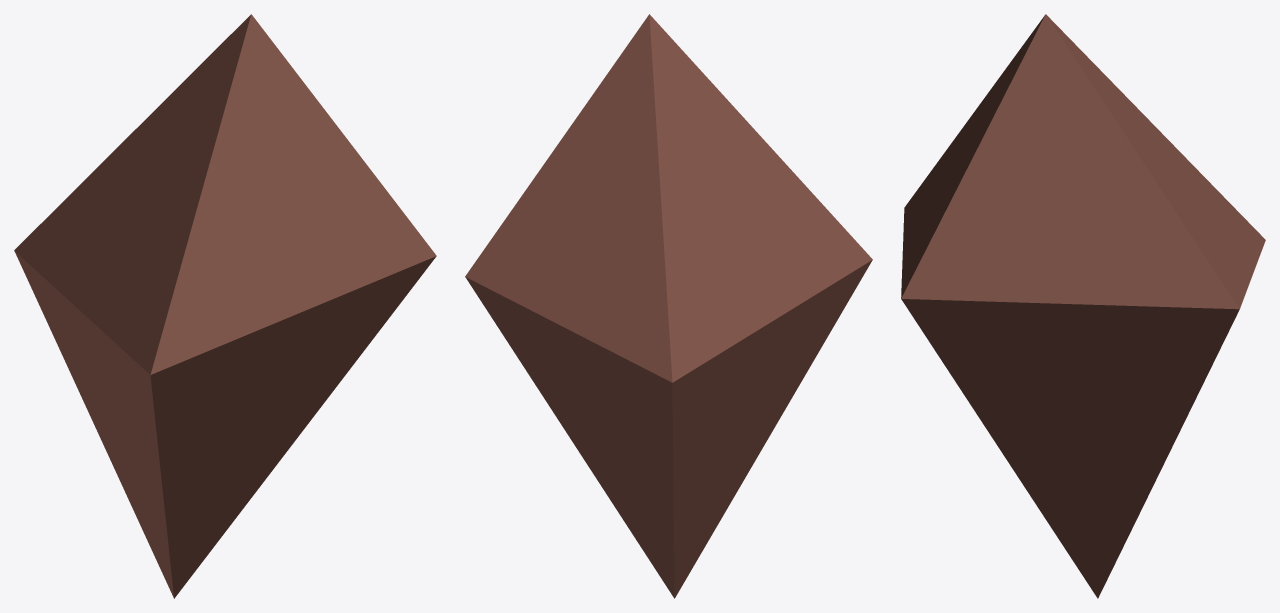
The model's file is Rock5.fbx.
The picture shows the model from 3 angles, left to right: view 1: azimuth 30°, elevation 25°; view 2: azimuth 150°, elevation 25°; view 3: azimuth 270°, elevation 25°; orthographic projection. The views are drawn at different scales.
Parts seen in each view (by area): view 1: Rock5; view 2: Rock5; view 3: Rock5.
Part boxes in pixels (x1,y1,x2,y2): Rock5: [14, 14, 436, 598]; Rock5: [465, 14, 872, 598]; Rock5: [901, 14, 1265, 598].
Size of the model in its own units: 0.2898 by 0.5745 by 0.3107.
